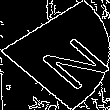N_NW: (10, 22, 100, 88)
